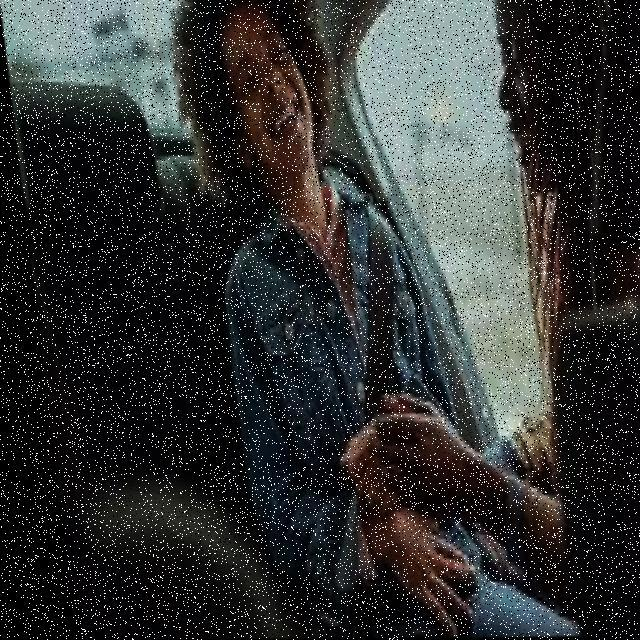seatbelt: (286, 199, 425, 439)
